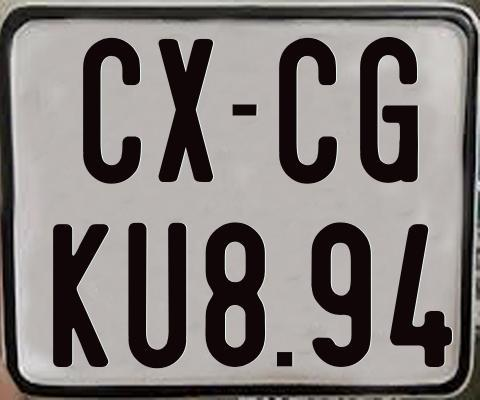4: (390, 223, 458, 371)
8: (204, 221, 268, 368)
9: (311, 219, 372, 367)
C: (82, 37, 145, 183), (277, 37, 337, 187)
G: (358, 36, 416, 186)
K: (52, 223, 114, 369)
U: (126, 220, 185, 368)
X: (156, 36, 212, 179)
